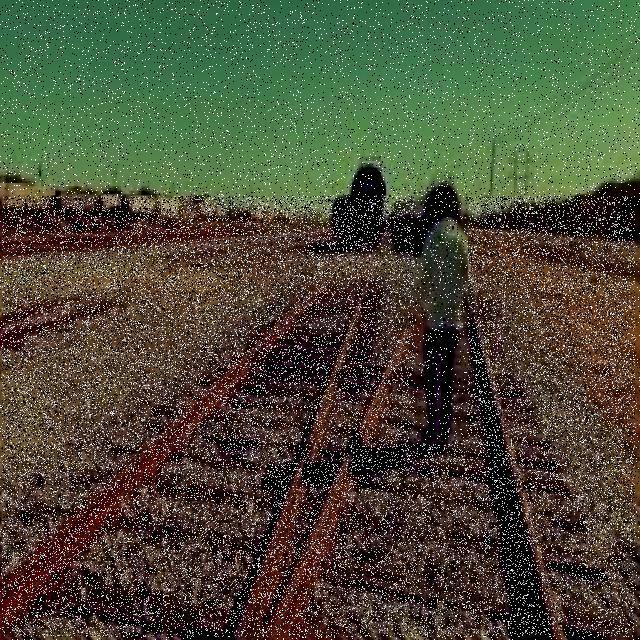danger: (414, 173, 468, 444)
rail: (3, 196, 635, 637)
